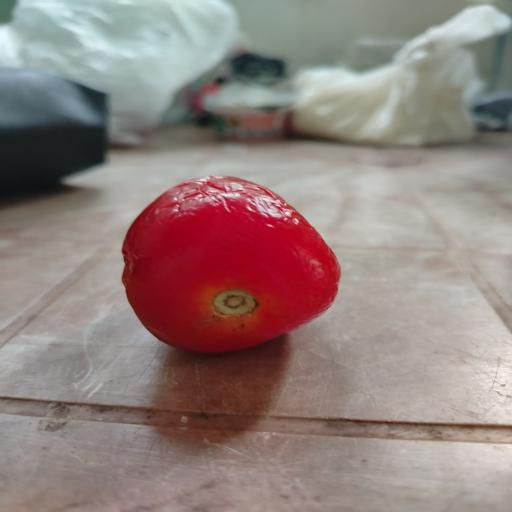spoiled: (123, 176, 340, 352)
